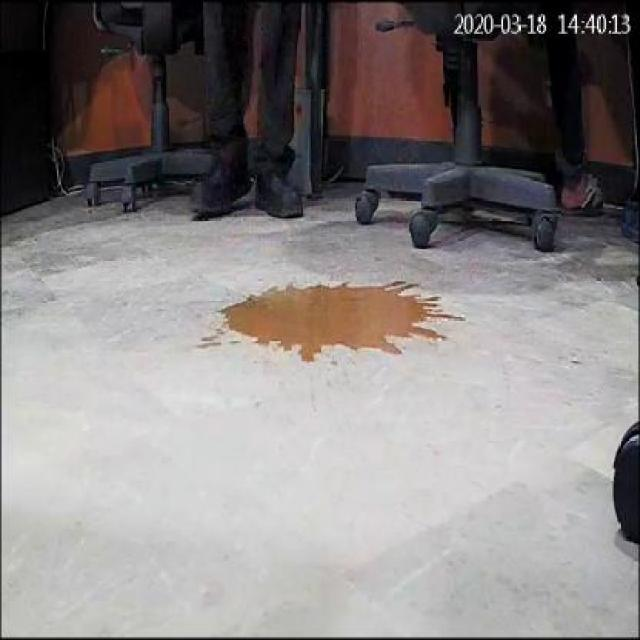spill: (220, 276, 458, 372)
